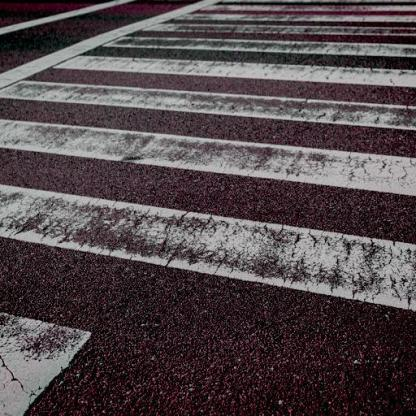crosswalk: (1, 40, 416, 136)
